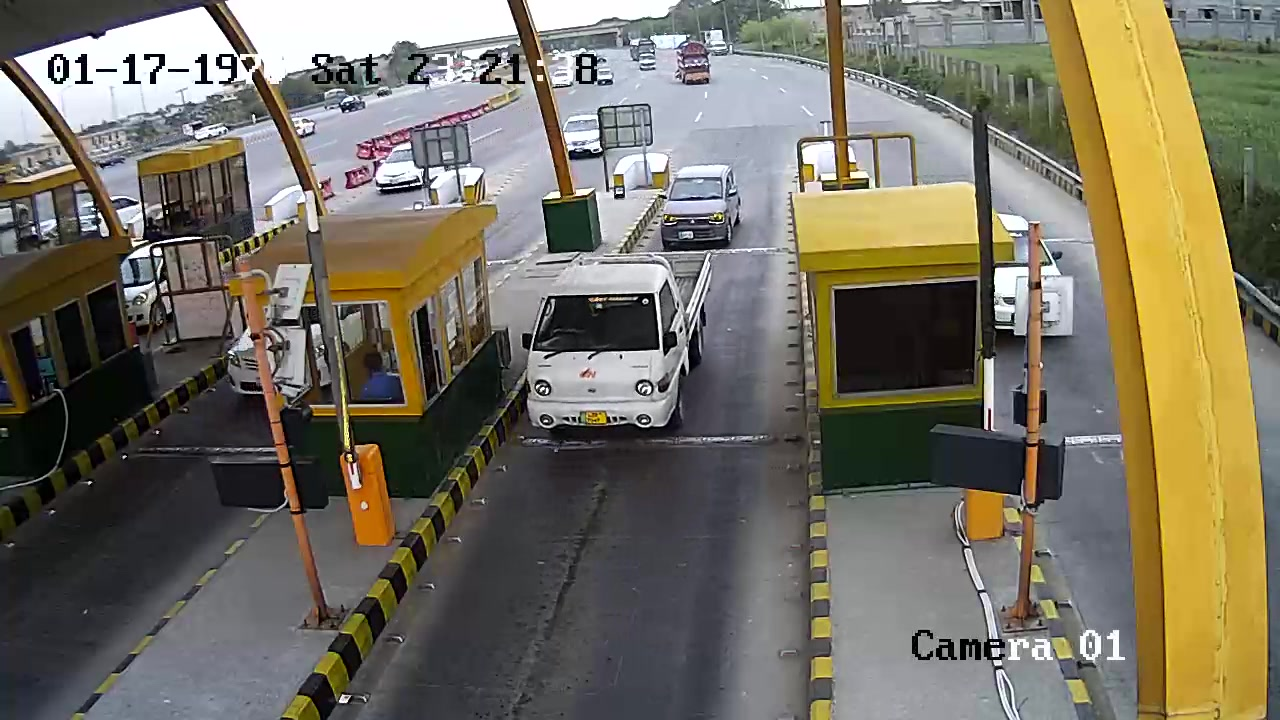F2: (518, 241, 715, 433)
